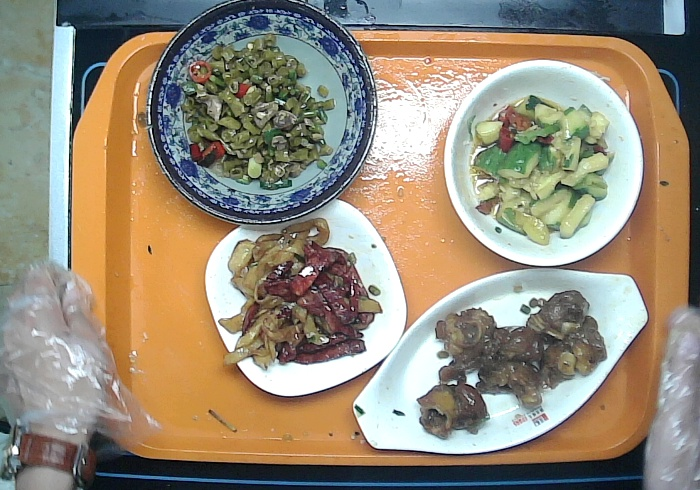ZNLD-Qing_Hua_Wan: (140, 1, 386, 232)
ZNLD-Si_Fang_Wan: (200, 195, 409, 401)
ZNLD-Tang_Wan: (441, 57, 648, 270)
ZNLD-Yu_Pan: (347, 265, 652, 459)
